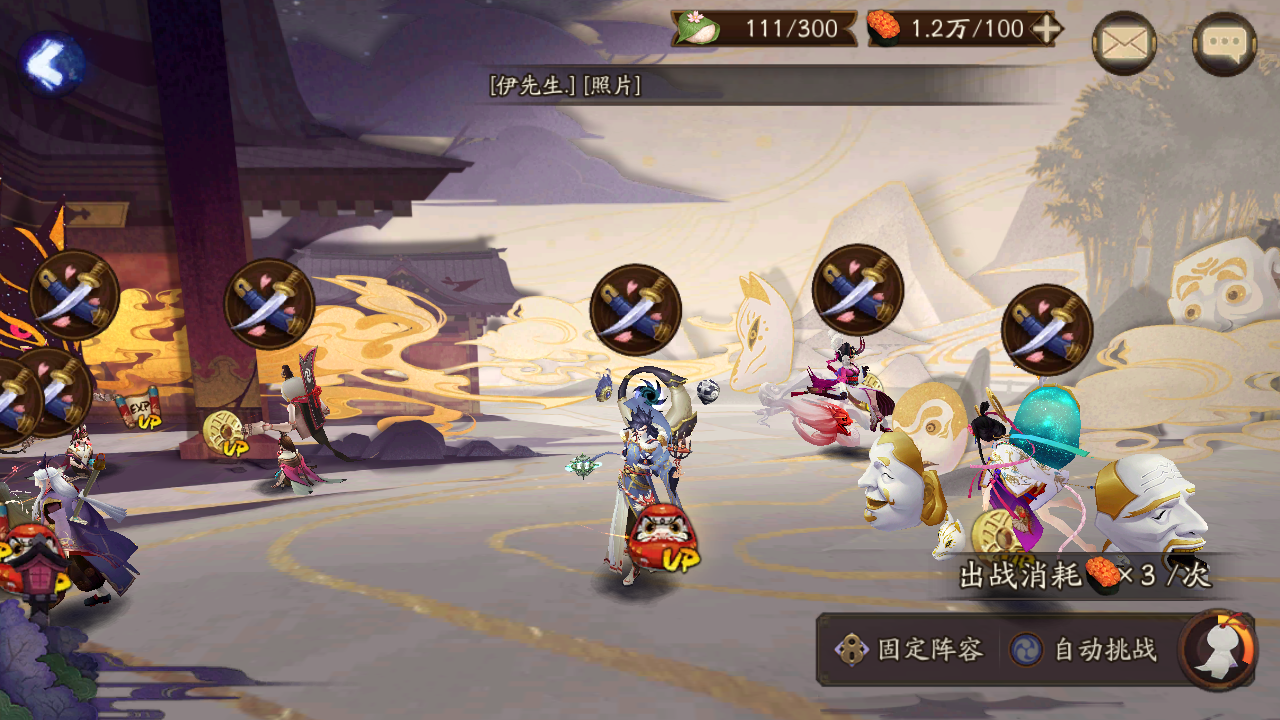experience: (111, 384, 168, 433)
material: (621, 502, 706, 578)
money: (968, 507, 1030, 568), (197, 404, 257, 466)
